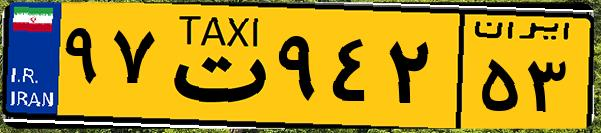2: (385, 28, 445, 110)
3: (525, 38, 570, 115)
4: (330, 28, 385, 110)
5: (475, 38, 525, 113)
7: (110, 28, 158, 98)
9: (270, 28, 330, 110), (57, 26, 110, 100)
ت: (158, 12, 270, 120)
